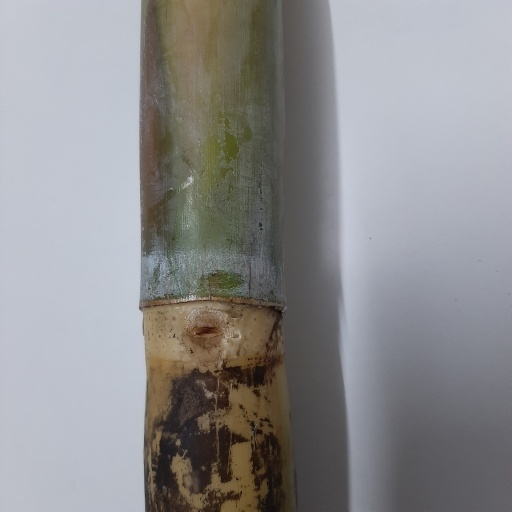Damage_Bud: (187, 314, 225, 349)
